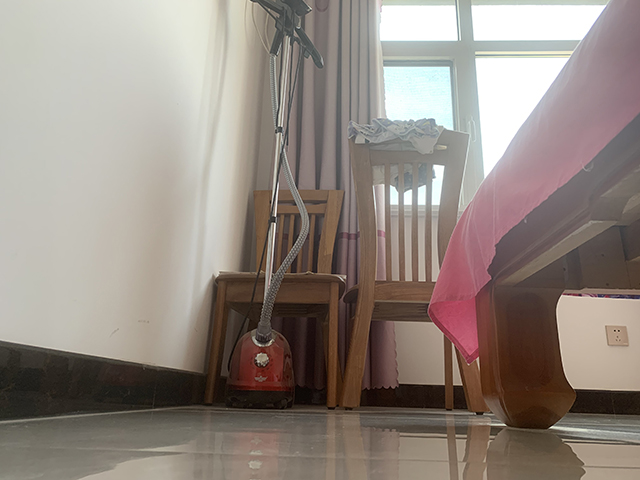bed: (425, 1, 640, 430)
curtain: (270, 1, 401, 392)
stool: (340, 116, 474, 416), (201, 189, 349, 410)
